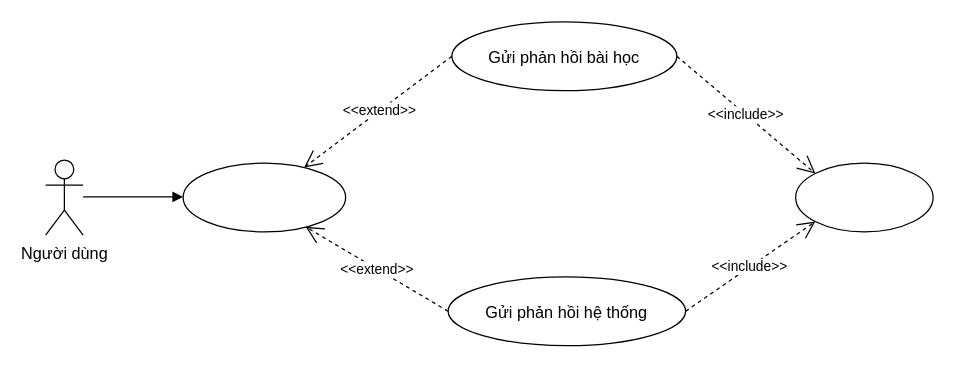
The diagram is 955 pixels wide and 368 high, and some of its shapes have lost their labels. Each missing label, with the box of its shape:
Gửi phản hồi: (182, 162, 346, 232)
Đăng nhập: (794, 162, 933, 232)
